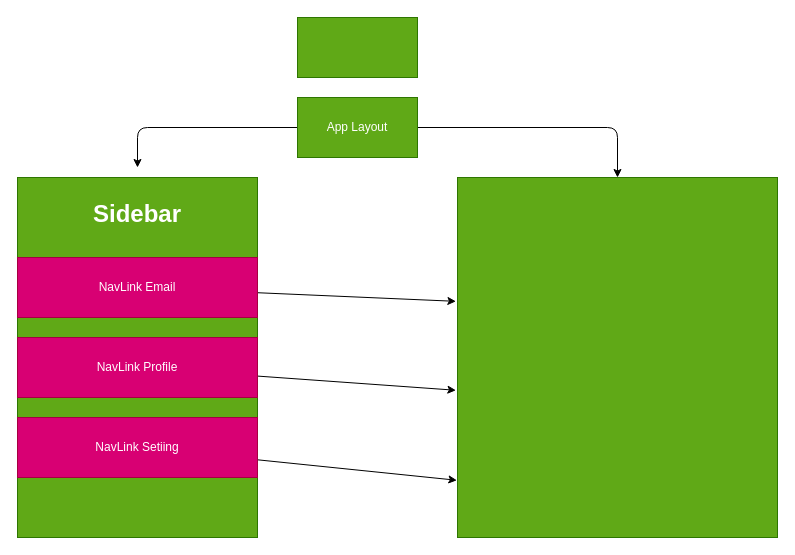
Some shapes in this 795 by 555 pixel diagram are drawn without their labels. Each missing label, with the centre of its shape:
"APP" goes at (357,47).
"Main" goes at (617,357).
